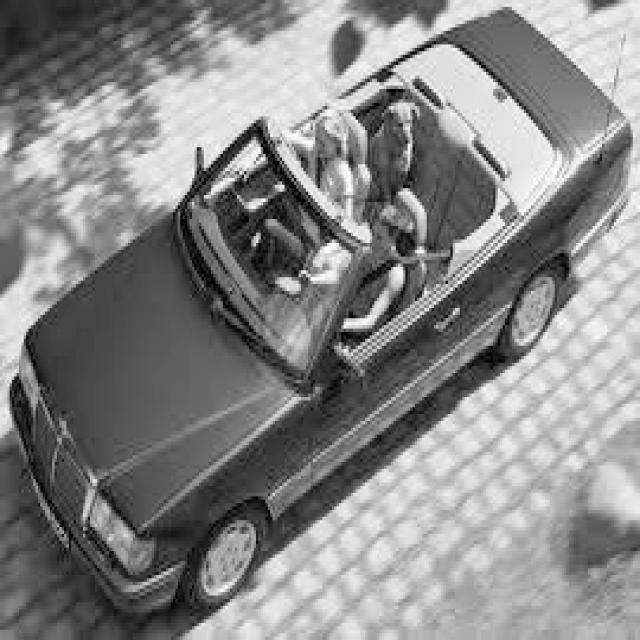car: (7, 3, 633, 620)
